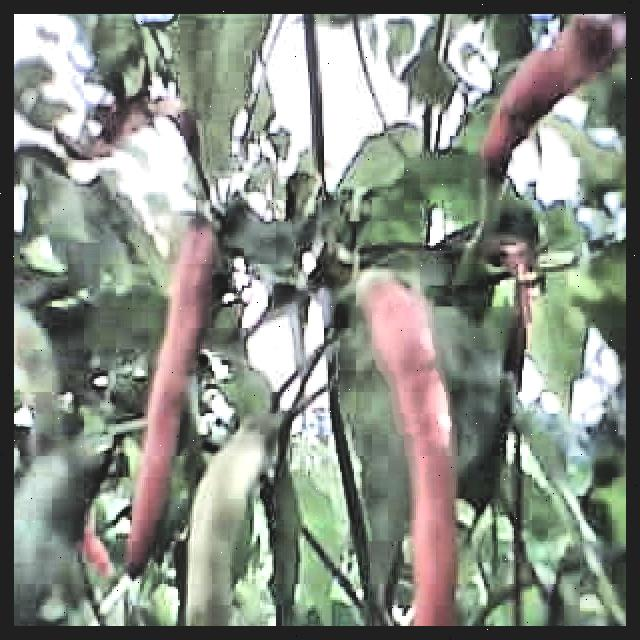Cabai: (356, 267, 471, 626), (132, 209, 203, 482), (487, 14, 588, 177)
